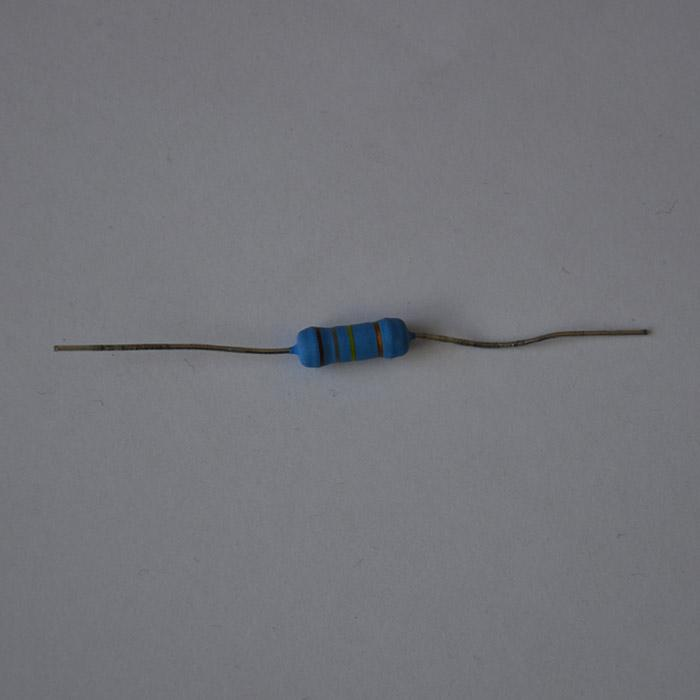resistor: (289, 317, 413, 367)
